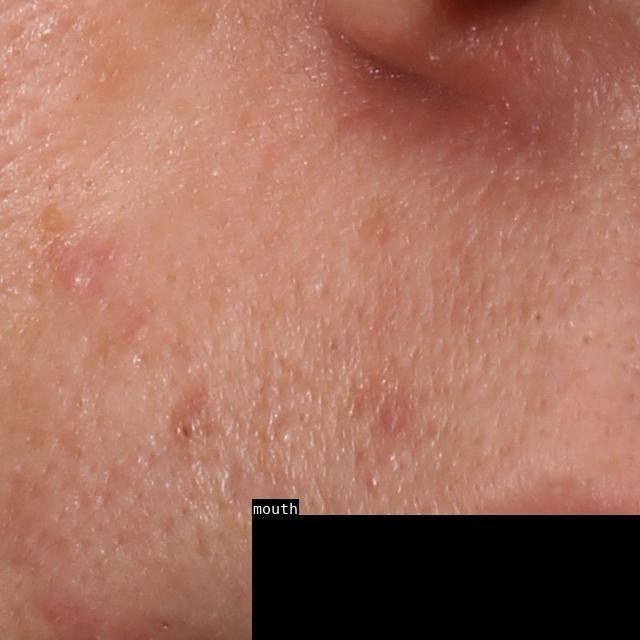comedo: (36, 193, 74, 243), (172, 414, 203, 447), (530, 308, 547, 325)
papule: (58, 258, 95, 299)
